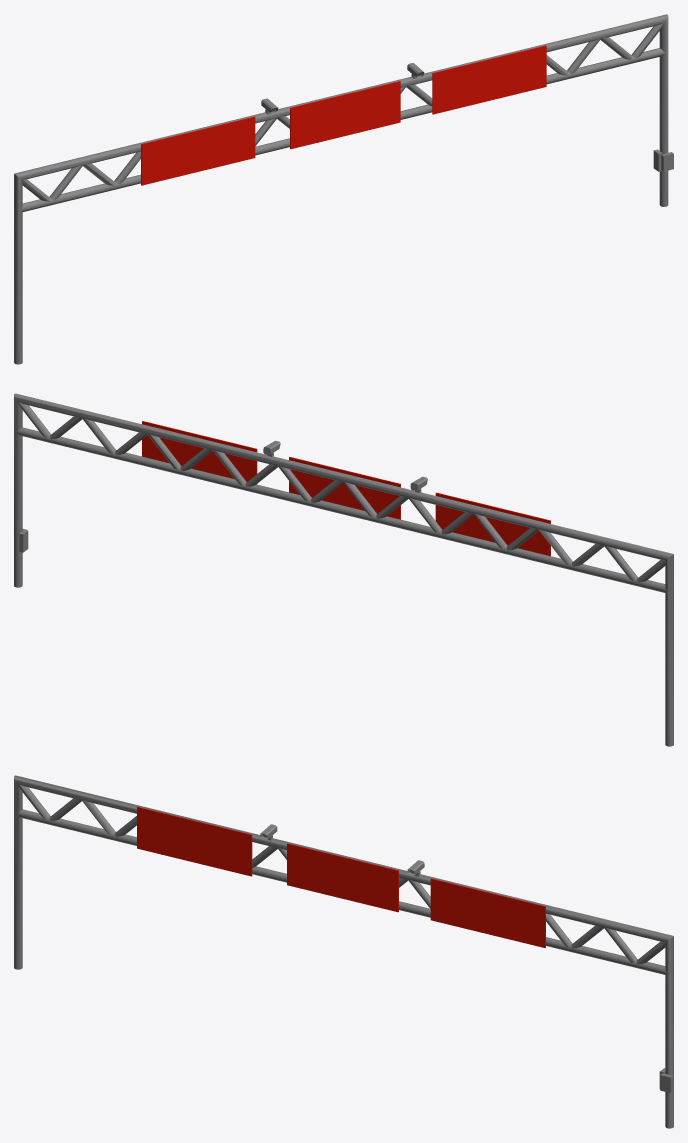
Rendered from Race_Billboard.fbx.
3 views of the same model, one above another, from view 1: azimuth 30°, elevation 25°; view 2: azimuth 150°, elevation 25°; view 3: azimuth 330°, elevation 25° (orthographic).
Visible parts, largest first — view 1: Center_Billboard; view 2: Center_Billboard; view 3: Center_Billboard.
Part boxes in pixels (box(x1,y1,x2,y2)): Center_Billboard: box(14, 14, 673, 364); Center_Billboard: box(14, 393, 673, 746); Center_Billboard: box(14, 775, 673, 1128).
Size of the model in its own units: 1283 by 375 by 35.96.
